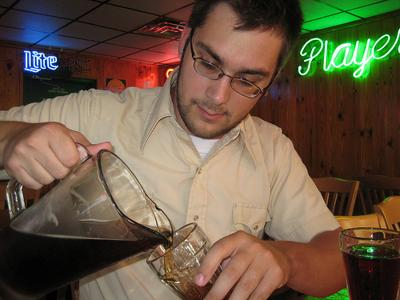person: (2, 2, 348, 299)
